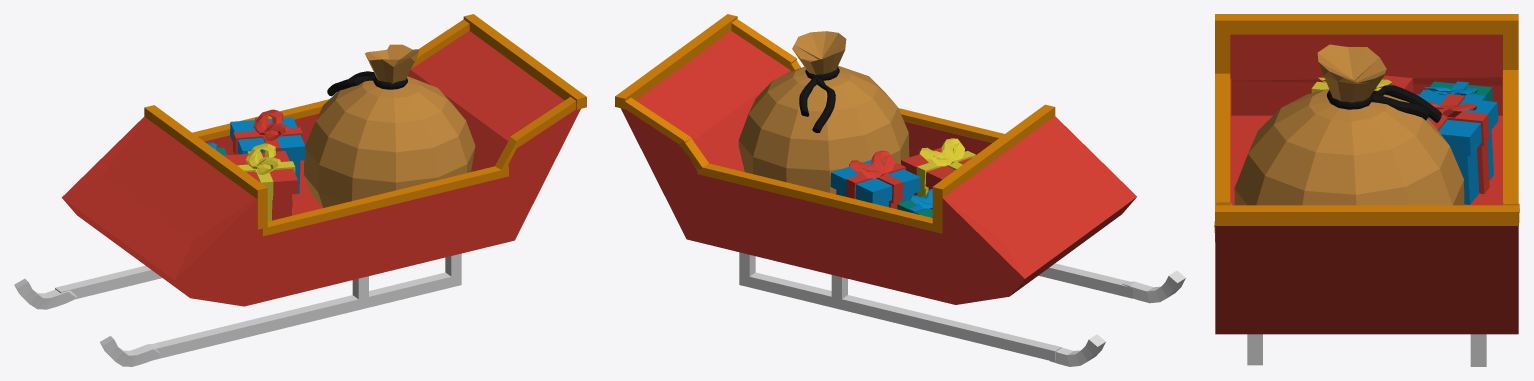
File: sled.gltf
The picture shows the model from 3 angles, left to right: view 1: azimuth 30°, elevation 25°; view 2: azimuth 150°, elevation 25°; view 3: azimuth 270°, elevation 25°; orthographic projection. The views are drawn at different scales.
Visible parts, largest first — view 1: node_MeshObject-1135686656-PolyPaper21; view 2: node_MeshObject-1135686656-PolyPaper21; view 3: node_MeshObject-1135686656-PolyPaper21.
Part boxes in pixels (x1=…): node_MeshObject-1135686656-PolyPaper21: x1=14, y1=14, x2=586, y2=366; node_MeshObject-1135686656-PolyPaper21: x1=615, y1=14, x2=1185, y2=366; node_MeshObject-1135686656-PolyPaper21: x1=1214, y1=14, x2=1519, y2=366.
Bounding box in the file's own units: 1.89 × 0.8314 × 0.7835.
